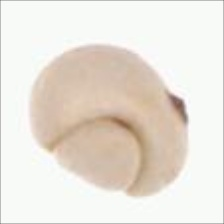L5: (44, 112, 147, 196), (163, 85, 191, 134)
L6: (26, 42, 191, 199)
